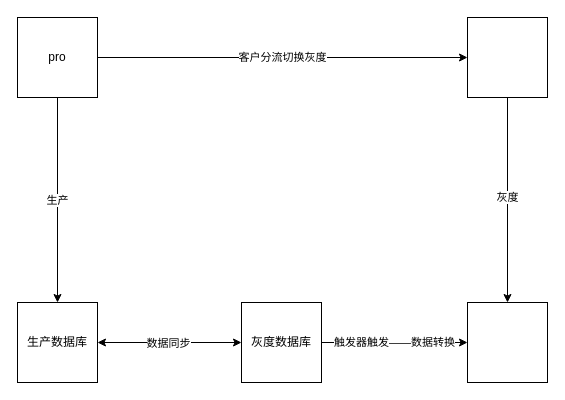
The diagram is 565 pixels wide and 400 high, and some of its shapes have lost their labels. Here are the shapes that lost their labels. From the top down, the centre of each, then its label:
the point at 507,57: gray
the point at 507,342: 灰度影子 表
